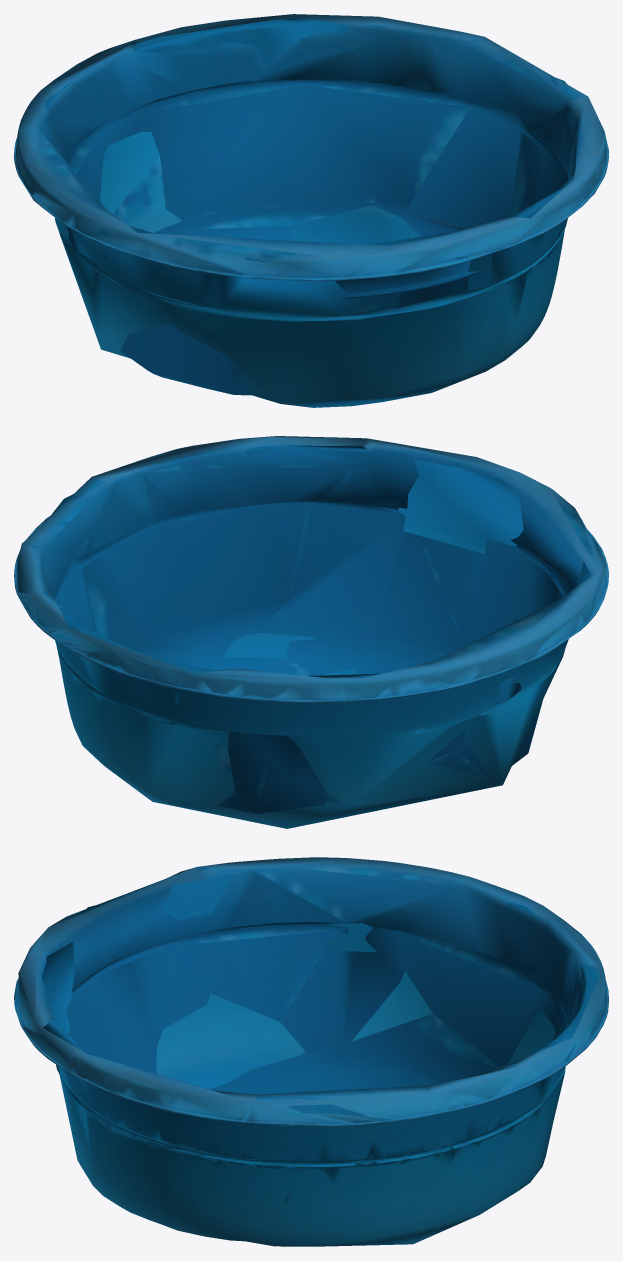
File: basin.glb
The picture shows the model from 3 angles, top to bottom: view 1: azimuth 30°, elevation 25°; view 2: azimuth 150°, elevation 25°; view 3: azimuth 270°, elevation 25°; orthographic projection.
Visible parts, largest first — view 1: node_0; view 2: node_0; view 3: node_0.
Boxes of the visible parts, x1,y1,x2,y2 form: node_0: [14, 14, 608, 407]; node_0: [14, 436, 608, 828]; node_0: [14, 857, 608, 1246].
Bounding box in the file's own units: 1.15 × 0.3914 × 1.15.
1 material, 1 textured.
